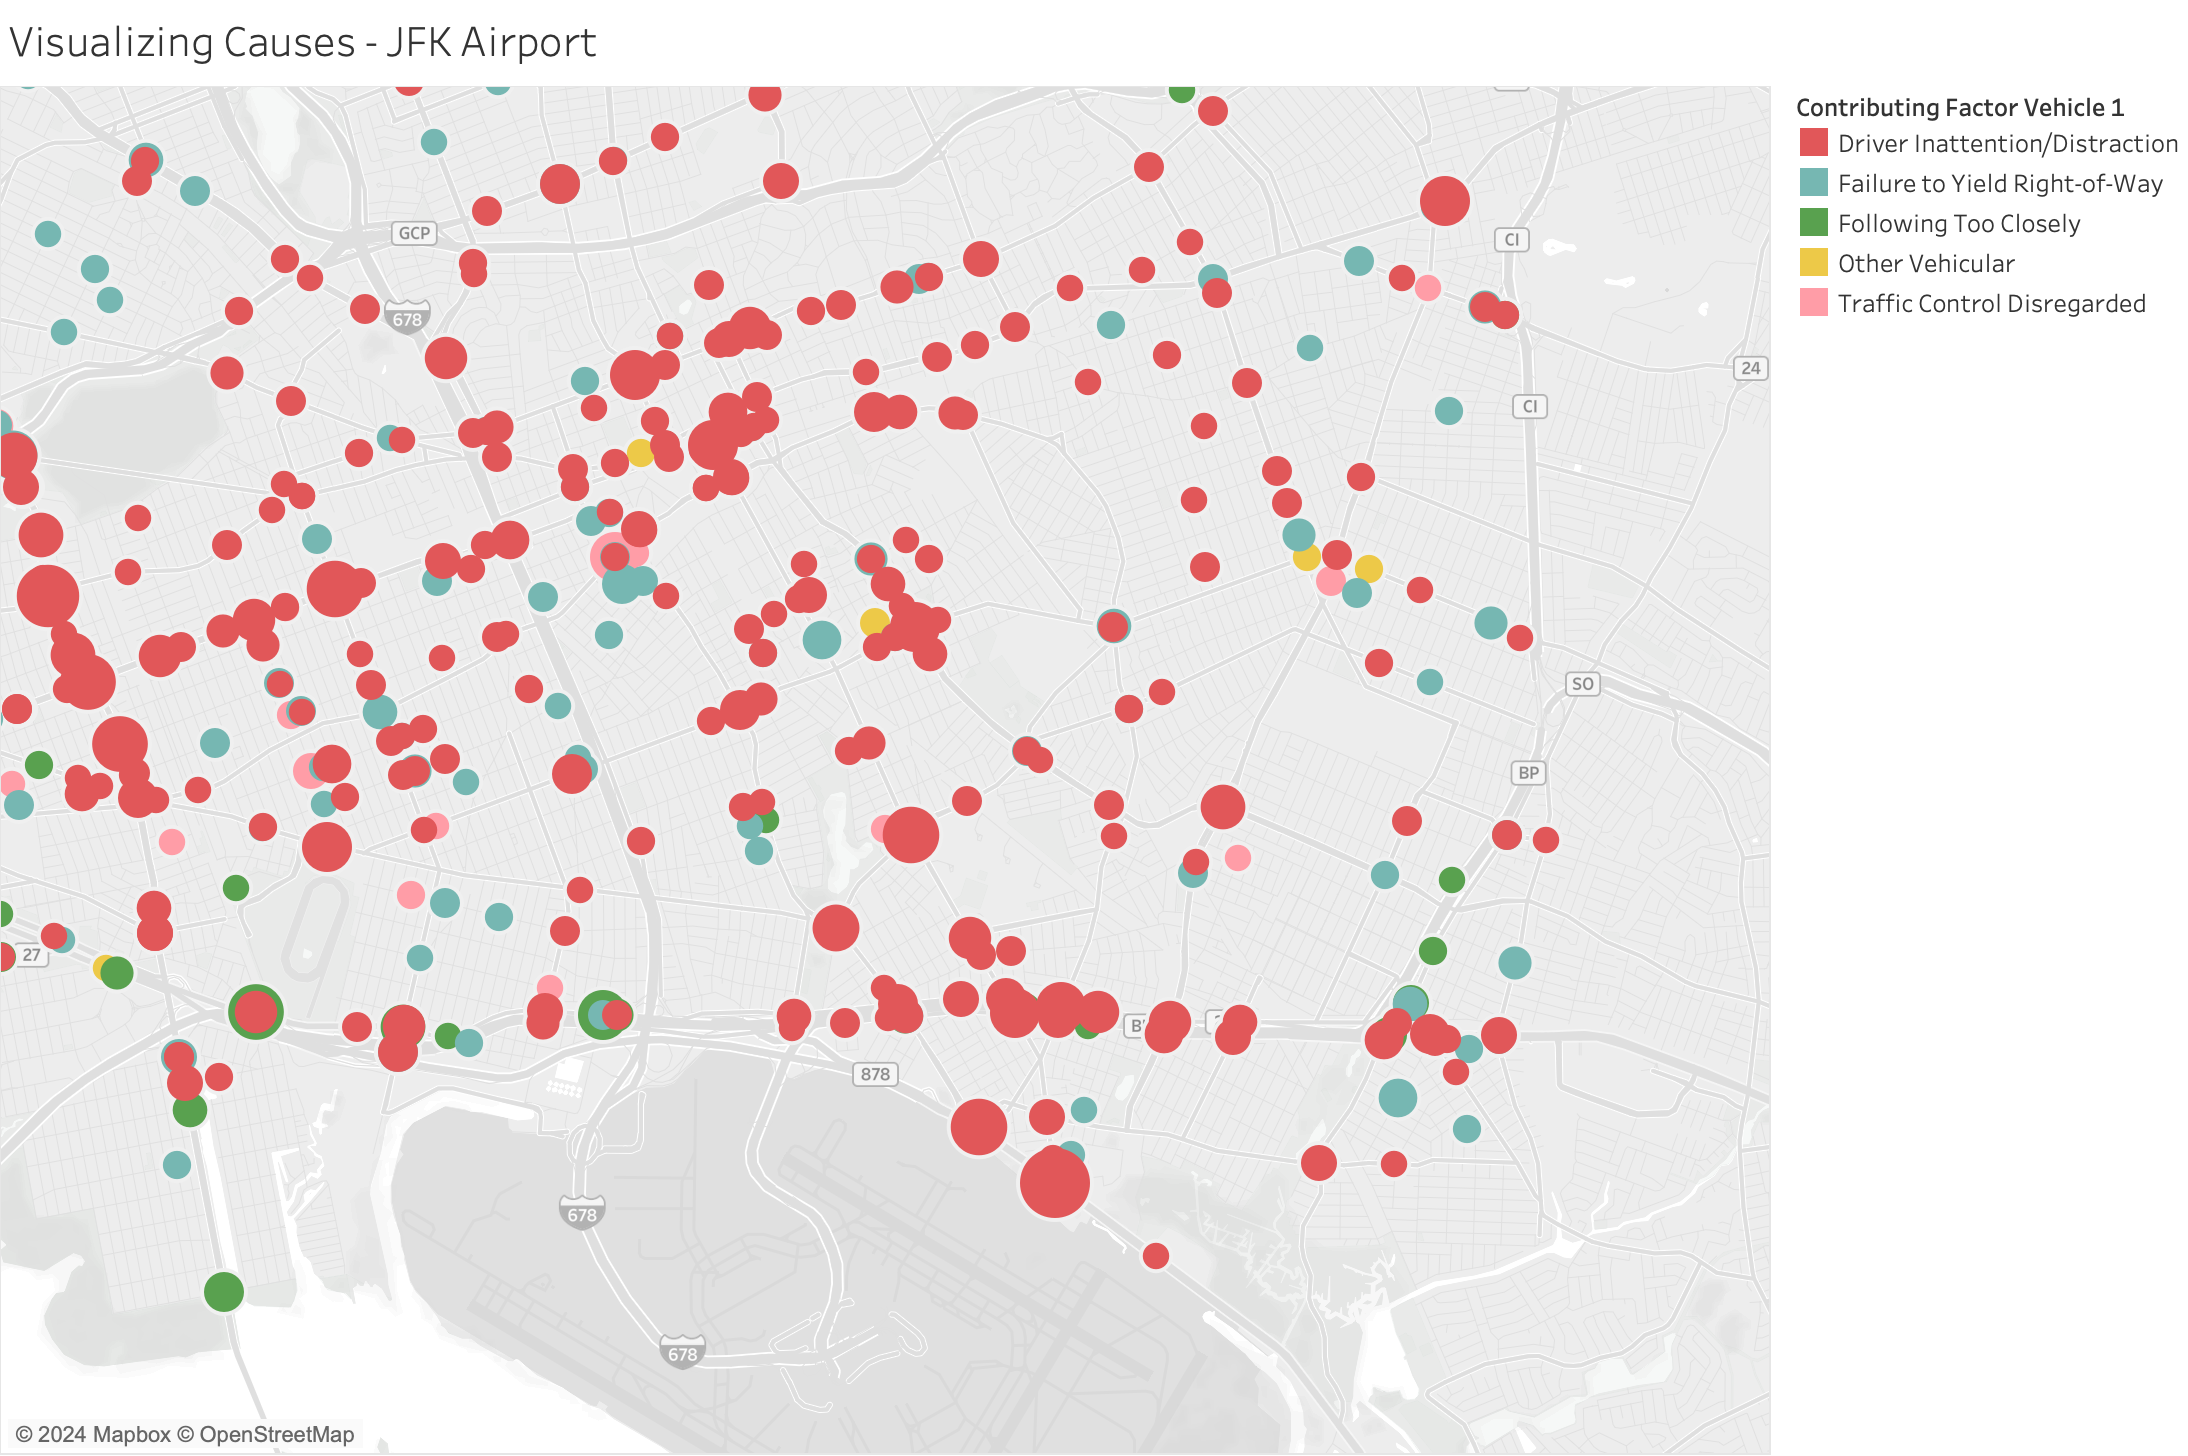

The page's visual inventory and layout, read from the dashboard file:
{"tool":"tableau","page":{"name":"Dashboard 1","canvas":[1000,1000],"units":"permille","ordinal":0},"visuals":[{"type":"worksheet","title":"Sheet 1","mark":"Automatic","rows":["LATITUDE"],"cols":["LONGITUDE"],"box":[6.5,11.4,856.8,977.2]},{"type":"legend","title":"Sheet 1","param":"[federated.1myyyvv1h2nzx114ohmcz0o926mb].[sum:NUMBER OF PERSONS INJURED:qk]","box":[863.3,11.4,130.2,92.6]}]}

Visuals, with their boxes on the dashboard's canvas, which has no fixed pixel size, in thousandths of its width and height (x1, y1, x2, y2). These are canvas units, not pixel positions in the 2188x1456 screenshot, which may show the page scaled, cropped or inside an application window:
"Sheet 1" worksheet: x1=6 y1=11 x2=863 y2=989
"Sheet 1" legend: x1=863 y1=11 x2=994 y2=104
